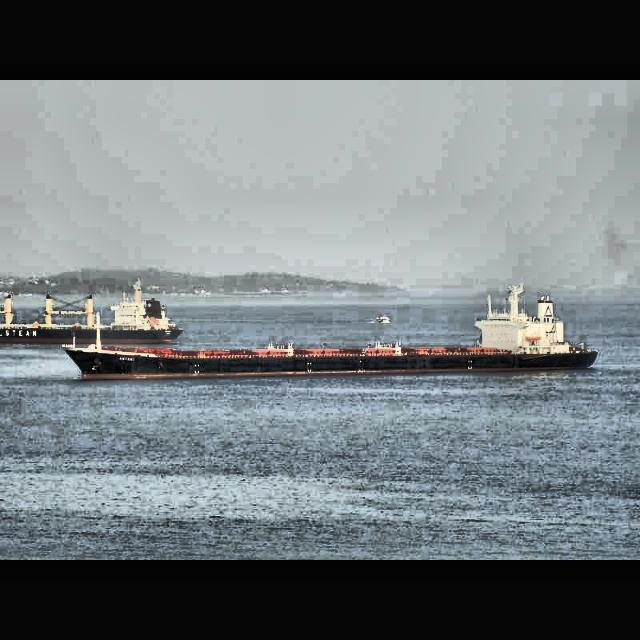bulk_carrier: (62, 277, 602, 383), (1, 274, 186, 346)
